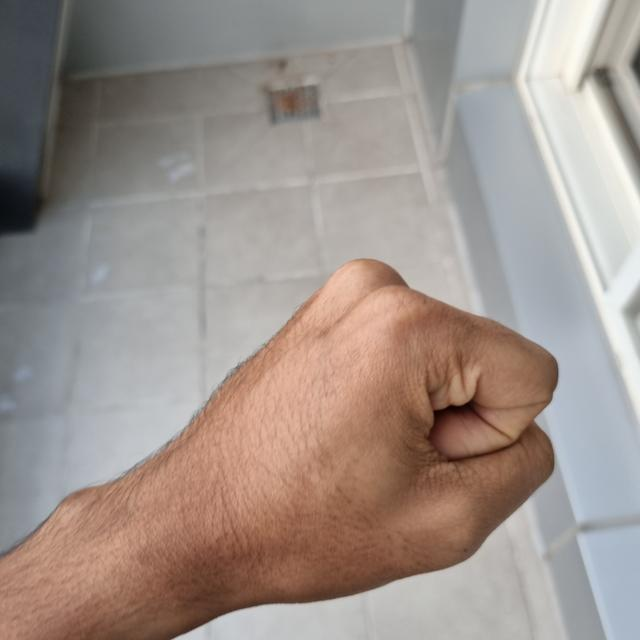Rock: (125, 261, 560, 607)
